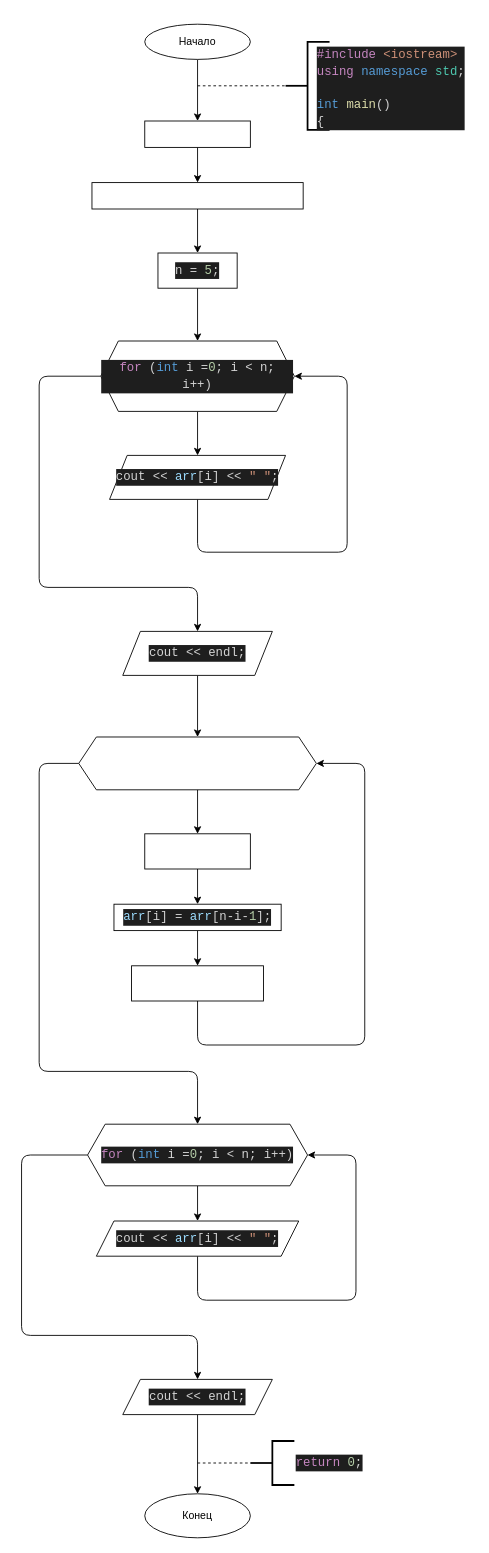
Image size: 489x1553. Some labels were removed from this diagram. The shapes that lost their labels are listed below. From the top down, each one's centre as x and y in pixels, then its label:
(x=197, y=133): int n, tmp;
(x=197, y=195): int arr [ 5 ] = { 1 , 2 , 3 , 5 , 96 };
(x=197, y=763): for ( int i = 0 ; i < n/ 2 ; i++)
(x=197, y=851): tmp = arr [i];
(x=197, y=983): arr [n-i- 1 ] = tmp;
